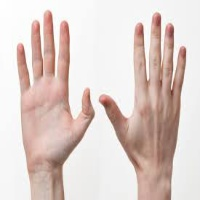ring: (27, 19, 45, 83), (160, 22, 175, 98)
